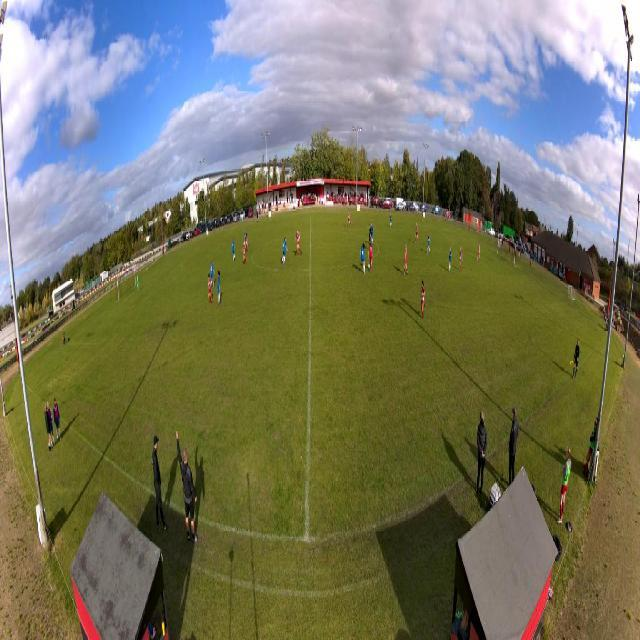ball: (368, 262, 371, 269)
player: (420, 279, 426, 321), (294, 227, 302, 257), (281, 236, 288, 266), (402, 243, 408, 278), (360, 242, 366, 276), (367, 241, 373, 273), (242, 240, 248, 267), (208, 273, 213, 304), (210, 259, 215, 290), (217, 268, 221, 306), (231, 237, 236, 263), (346, 211, 353, 229), (448, 245, 452, 274), (459, 246, 463, 273), (245, 232, 250, 253), (427, 231, 431, 256), (371, 222, 375, 246), (415, 222, 419, 246), (368, 224, 372, 246), (477, 243, 481, 264), (136, 275, 140, 295), (244, 229, 247, 251), (389, 212, 392, 228)
